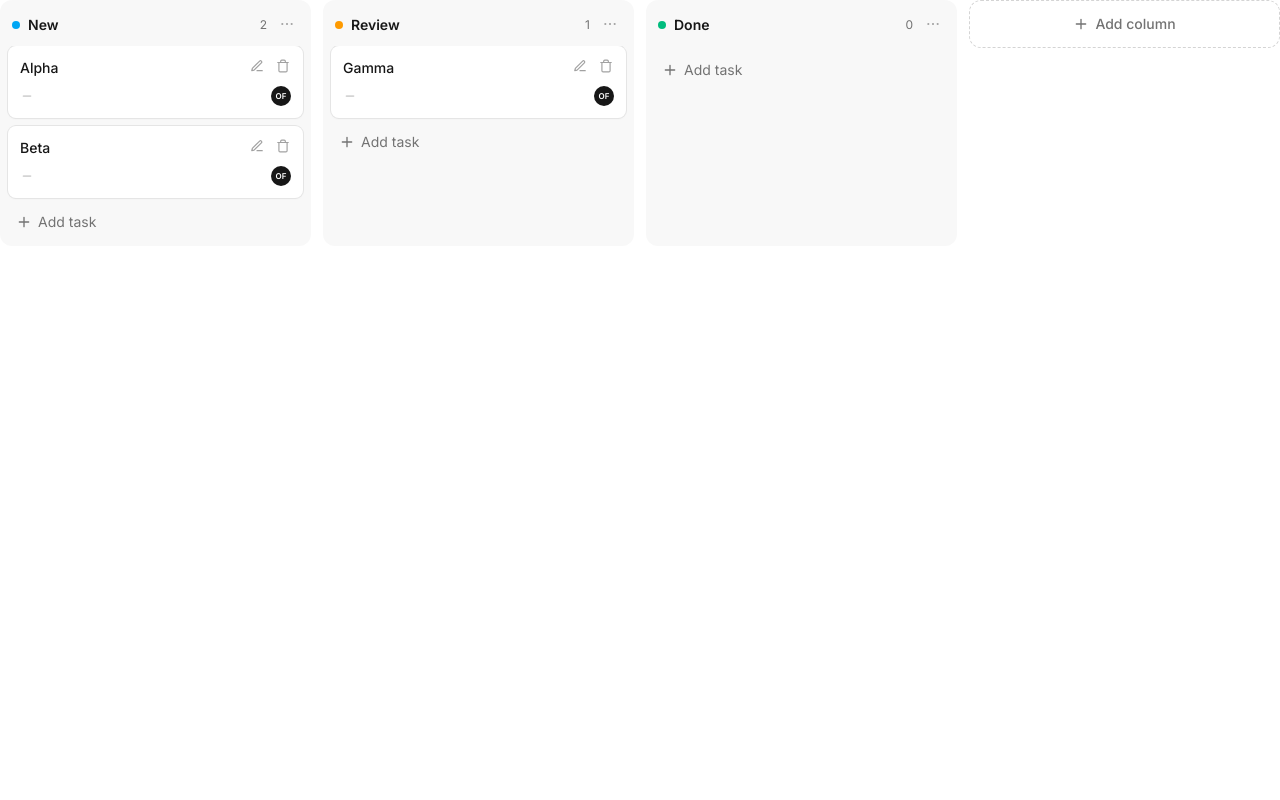
KanbanBoard › deletes a task from its card after asking, and says when it can’t
Click the button named "Delete Alpha": (283, 66) [271,54,295,78]
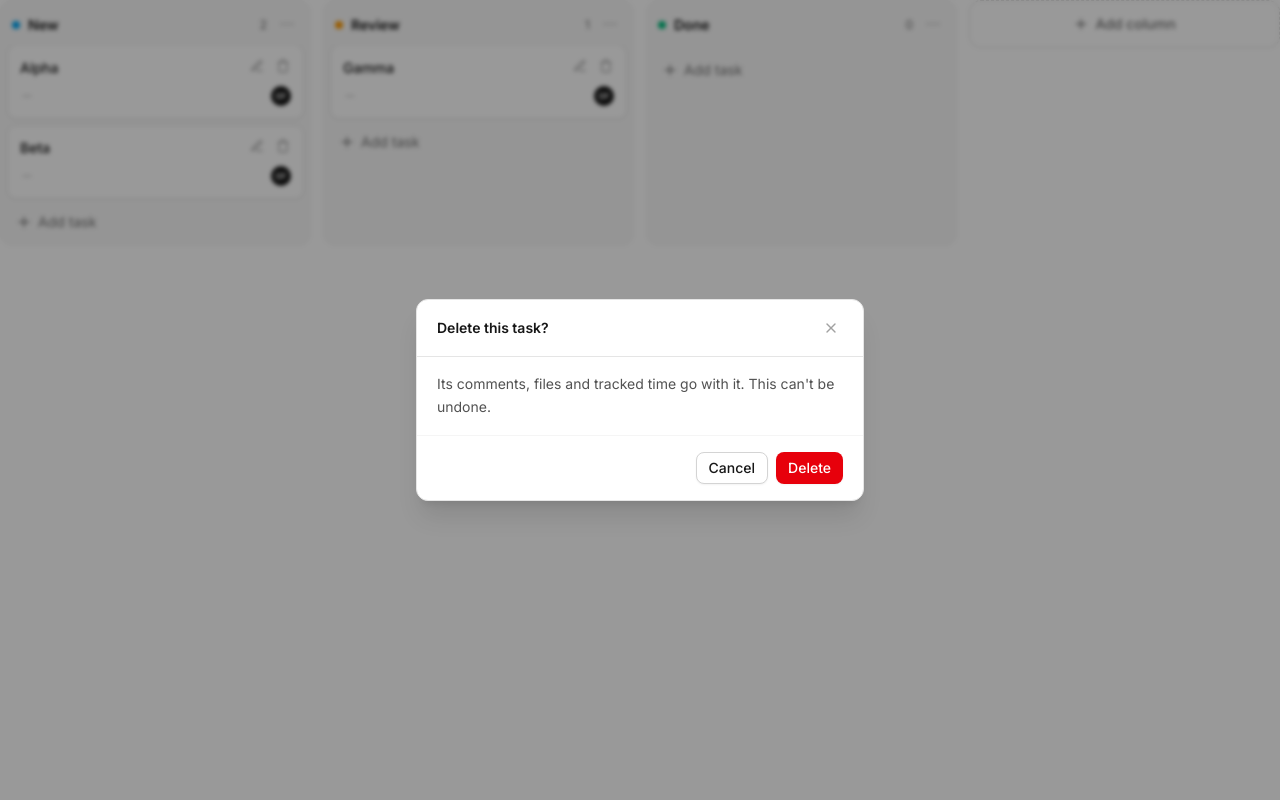
Expected: the dialog shows "Delete this task?", [437,319,549,336]
Click the button "Delete": (810, 468) [776,452,843,484]
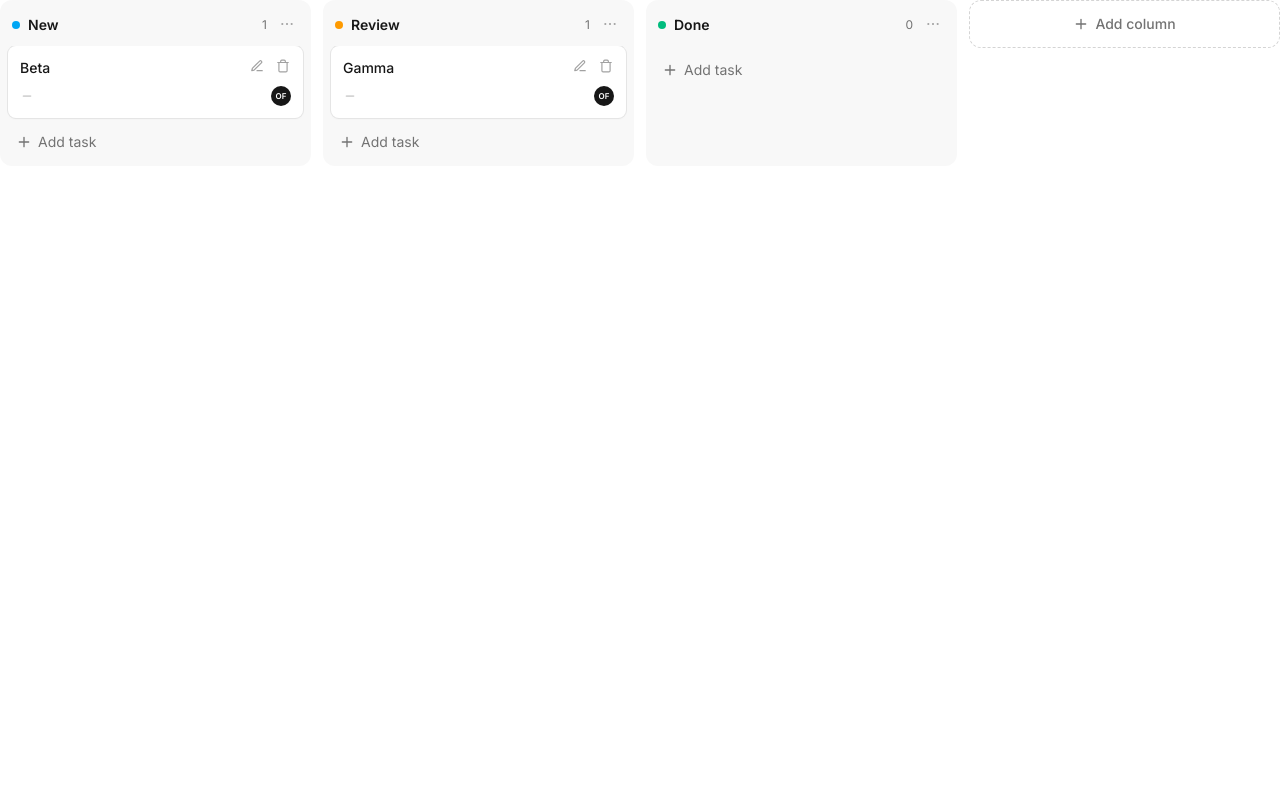
Click the button named "Delete Beta": (283, 66) [271,54,295,78]
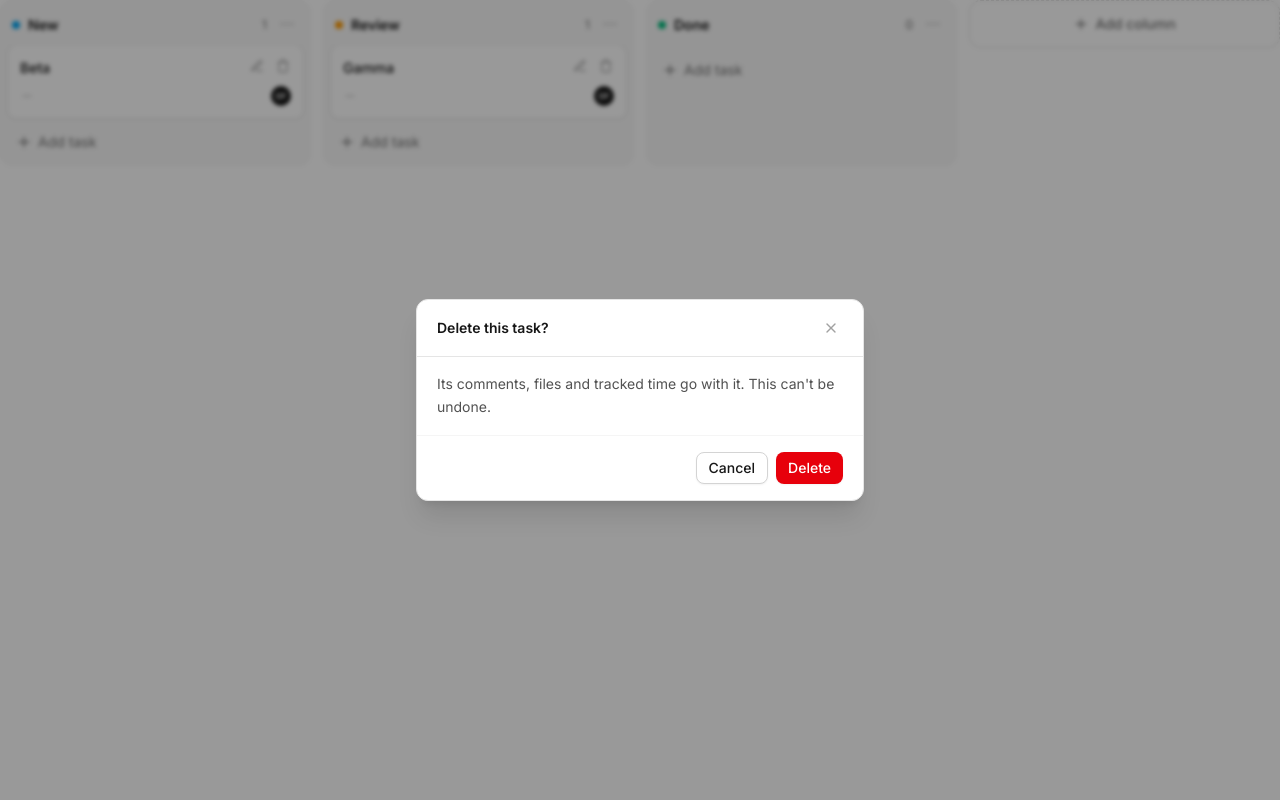
Click the button "Delete": (810, 468) [776,452,843,484]
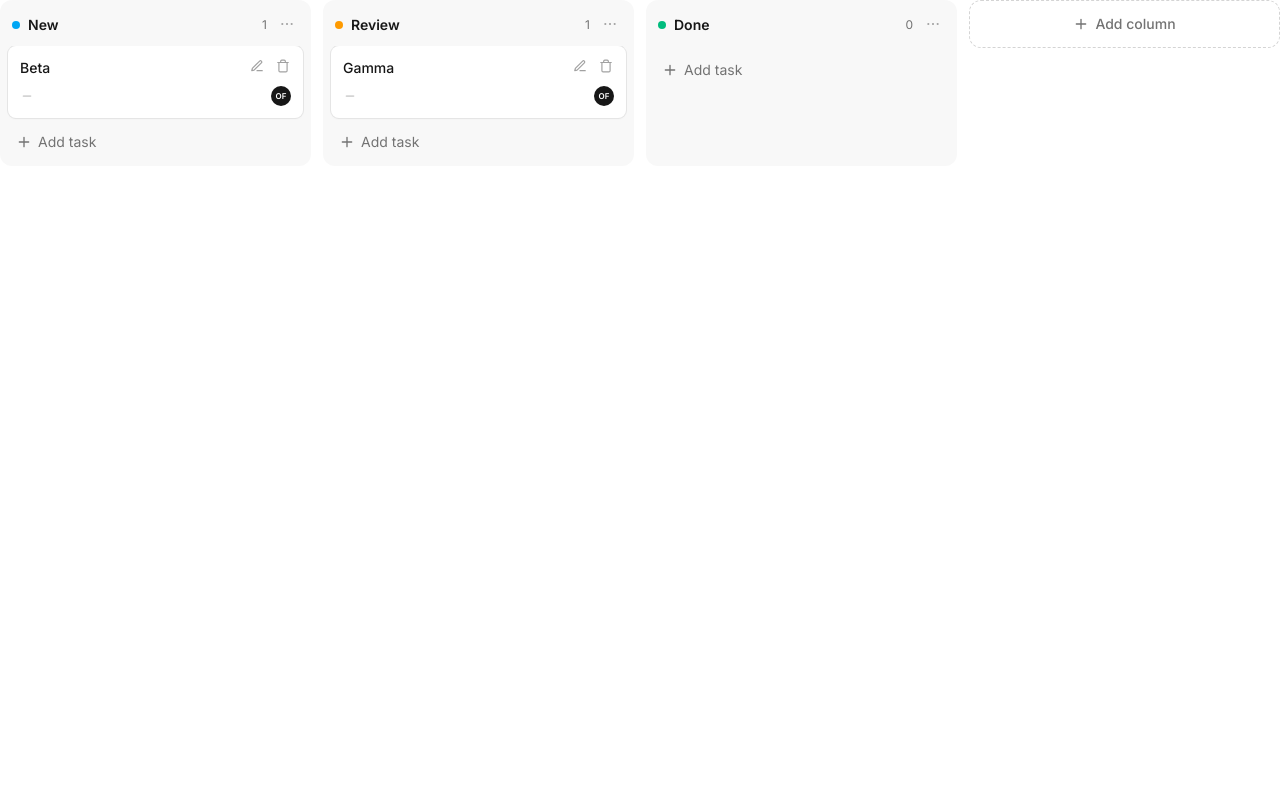
Expected: the dialog is gone
